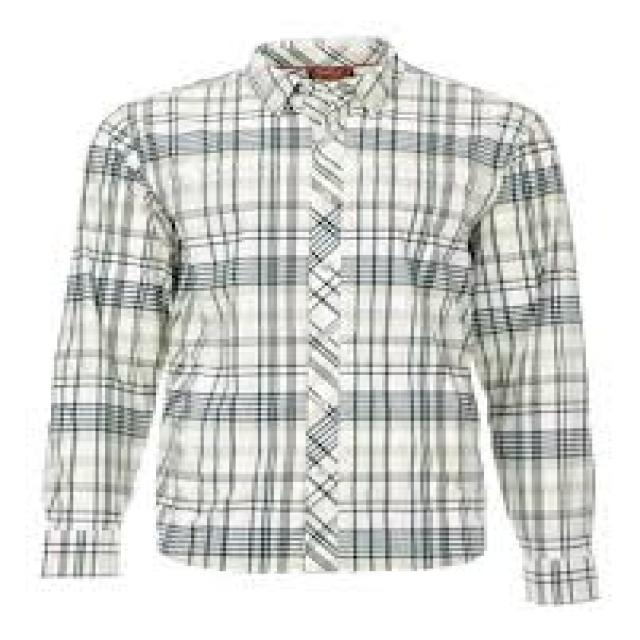plaid: (37, 29, 612, 614)
